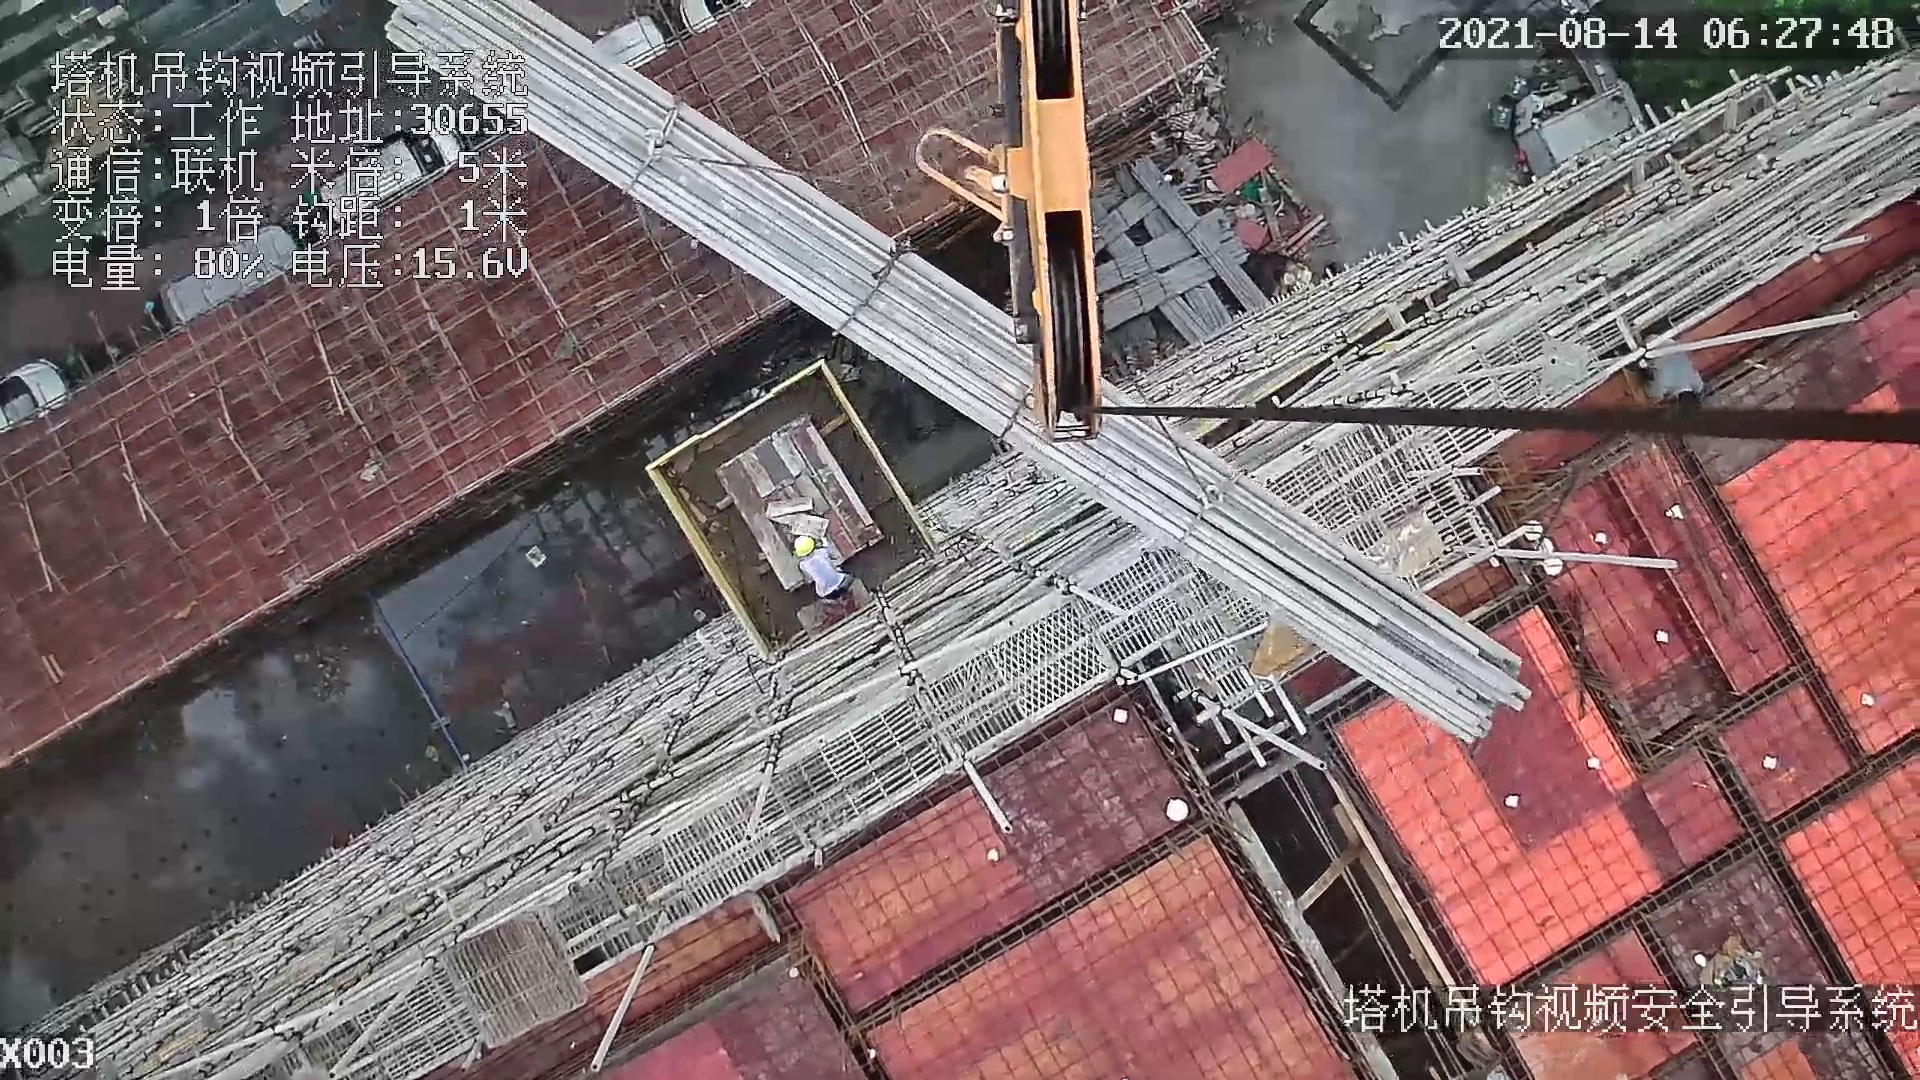helmet: (794, 529, 814, 571)
hook: (991, 1, 1105, 448)
person: (792, 532, 866, 601), (1650, 350, 1717, 414)
